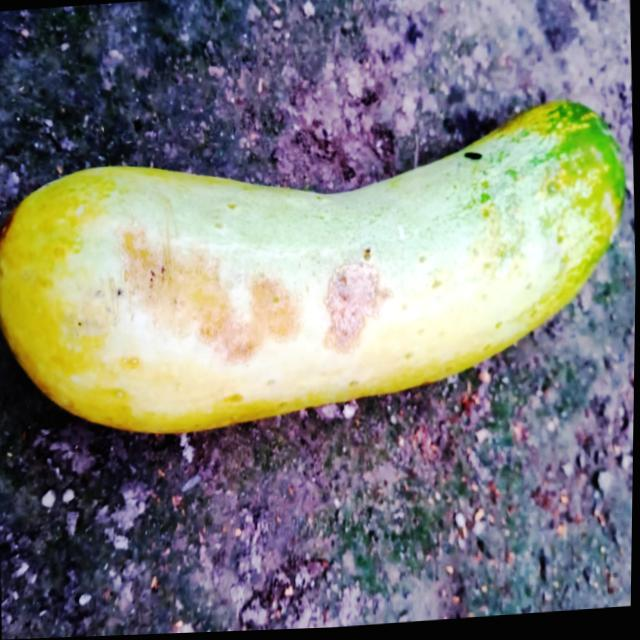Belly-Rot: (115, 211, 308, 382), (318, 261, 390, 361)
